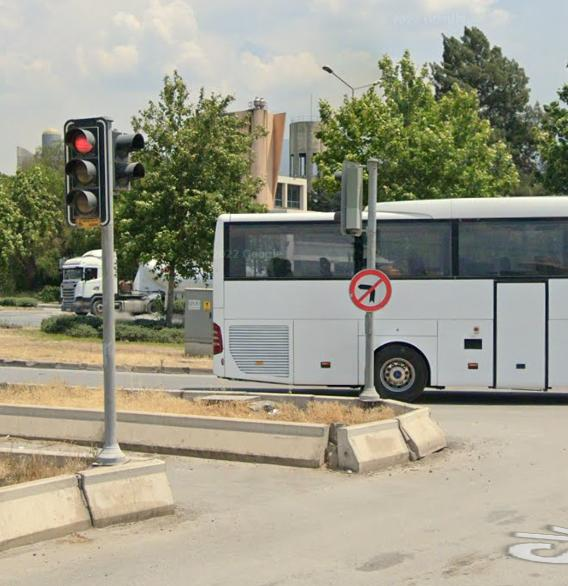redlight: (66, 123, 109, 220)
